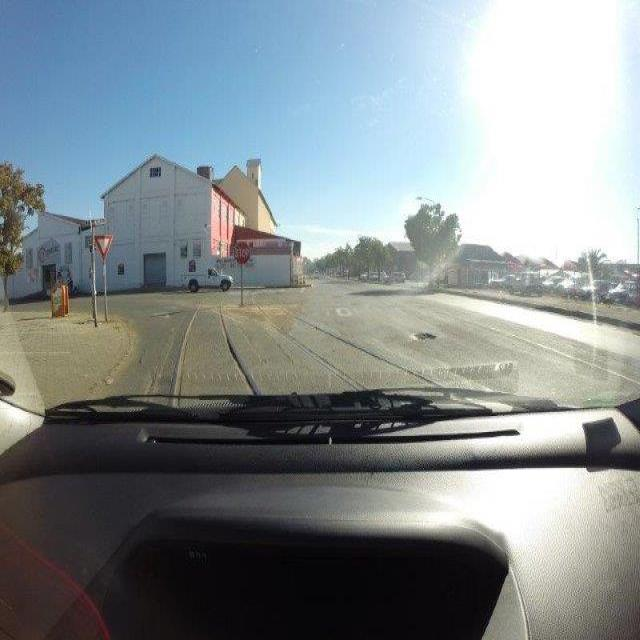lubang: (149, 301, 188, 323), (409, 326, 439, 346)
